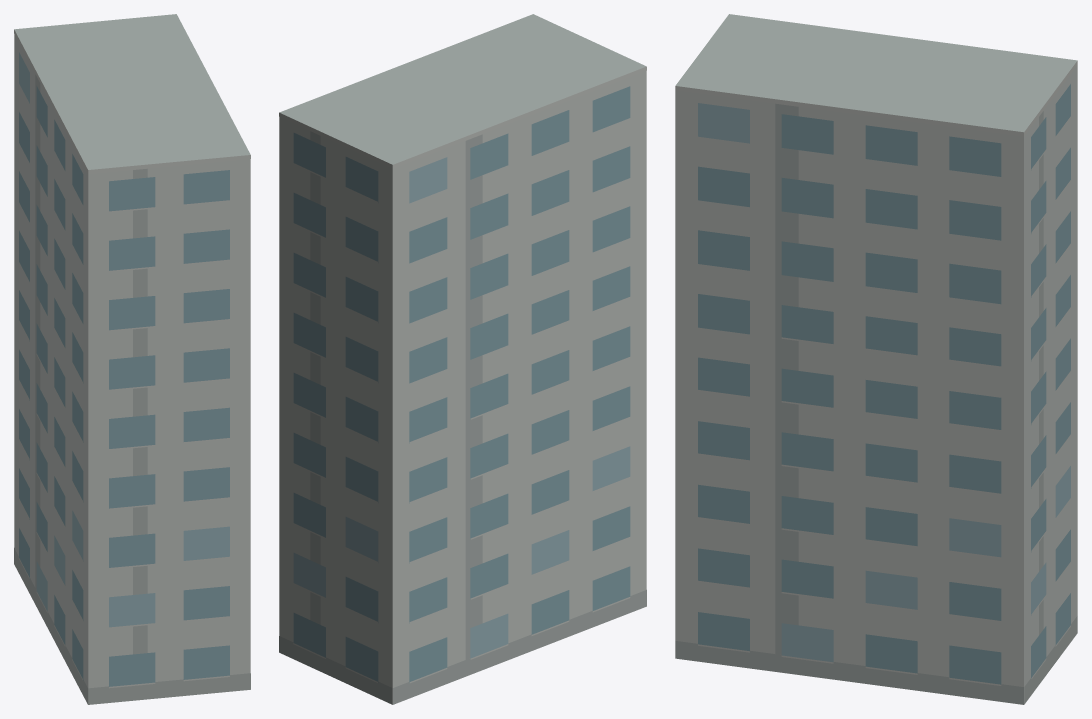
File: residential-cc170739-7c7d-4a02-8d97-8b1404da2e5a.glb
The picture shows the model from 3 angles, left to right: view 1: azimuth 30°, elevation 25°; view 2: azimuth 150°, elevation 25°; view 3: azimuth 270°, elevation 25°; orthographic projection. The views are drawn at different scales.
Visible parts, largest first — view 1: residential-cc170739-7c7d-4a02-8d97-8b1404da2e5a.tmp; view 2: residential-cc170739-7c7d-4a02-8d97-8b1404da2e5a.tmp; view 3: residential-cc170739-7c7d-4a02-8d97-8b1404da2e5a.tmp.
Boxes of the visible parts, <box> form: residential-cc170739-7c7d-4a02-8d97-8b1404da2e5a.tmp: <box>14,14,250,704</box>; residential-cc170739-7c7d-4a02-8d97-8b1404da2e5a.tmp: <box>279,14,646,704</box>; residential-cc170739-7c7d-4a02-8d97-8b1404da2e5a.tmp: <box>675,14,1077,704</box>.
Bounding box in the file's own units: 13.74 × 31 × 19.75.
